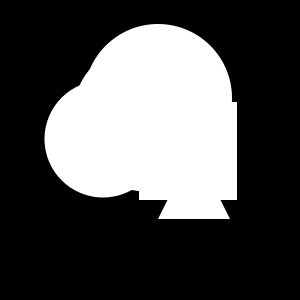circle: (139, 102, 237, 200)
rectangle: (72, 43, 222, 192), (84, 24, 232, 172), (44, 80, 162, 198)
triangle: (158, 147, 230, 219)
